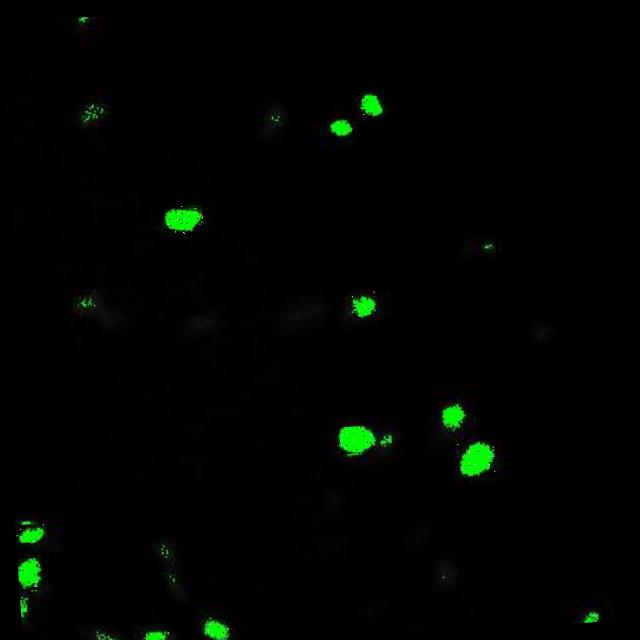Cell: (456, 438, 495, 478), (162, 201, 202, 235), (338, 424, 372, 453), (16, 556, 43, 591), (350, 290, 377, 319), (199, 615, 227, 640), (360, 90, 382, 118), (14, 522, 44, 542), (326, 116, 352, 138)
